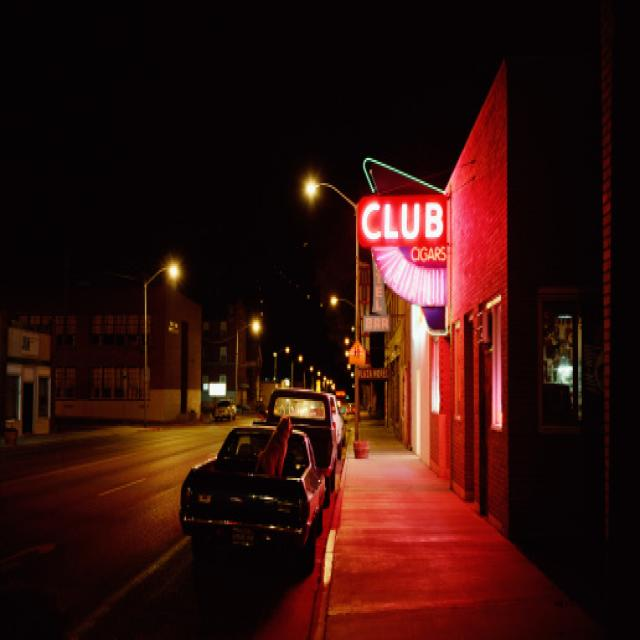car: (181, 306, 378, 486), (199, 420, 338, 558)
dog: (263, 397, 300, 472)
